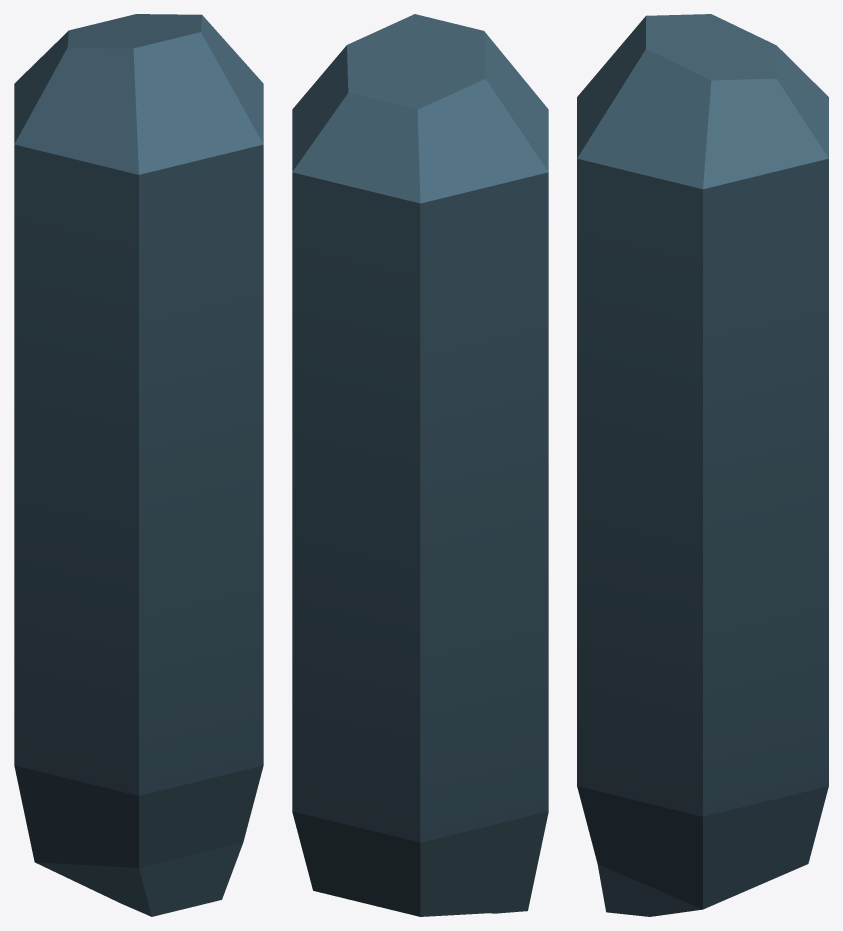
Rendered from geology-crystals-calcitecrystal_v6.fbx.
3 renders of one model, left to right at view 1: azimuth 30°, elevation 25°; view 2: azimuth 150°, elevation 25°; view 3: azimuth 270°, elevation 25°, orthographic. The views are drawn at different scales.
Parts seen in each view (by area): view 1: CalciteCrystal_v6; view 2: CalciteCrystal_v6; view 3: CalciteCrystal_v6.
Part boxes in pixels (<box>): CalciteCrystal_v6: <box>14,14,263,916</box>; CalciteCrystal_v6: <box>292,14,548,916</box>; CalciteCrystal_v6: <box>577,14,828,916</box>.
Size of the model in its own units: 1.36 by 4.46 by 1.18.
